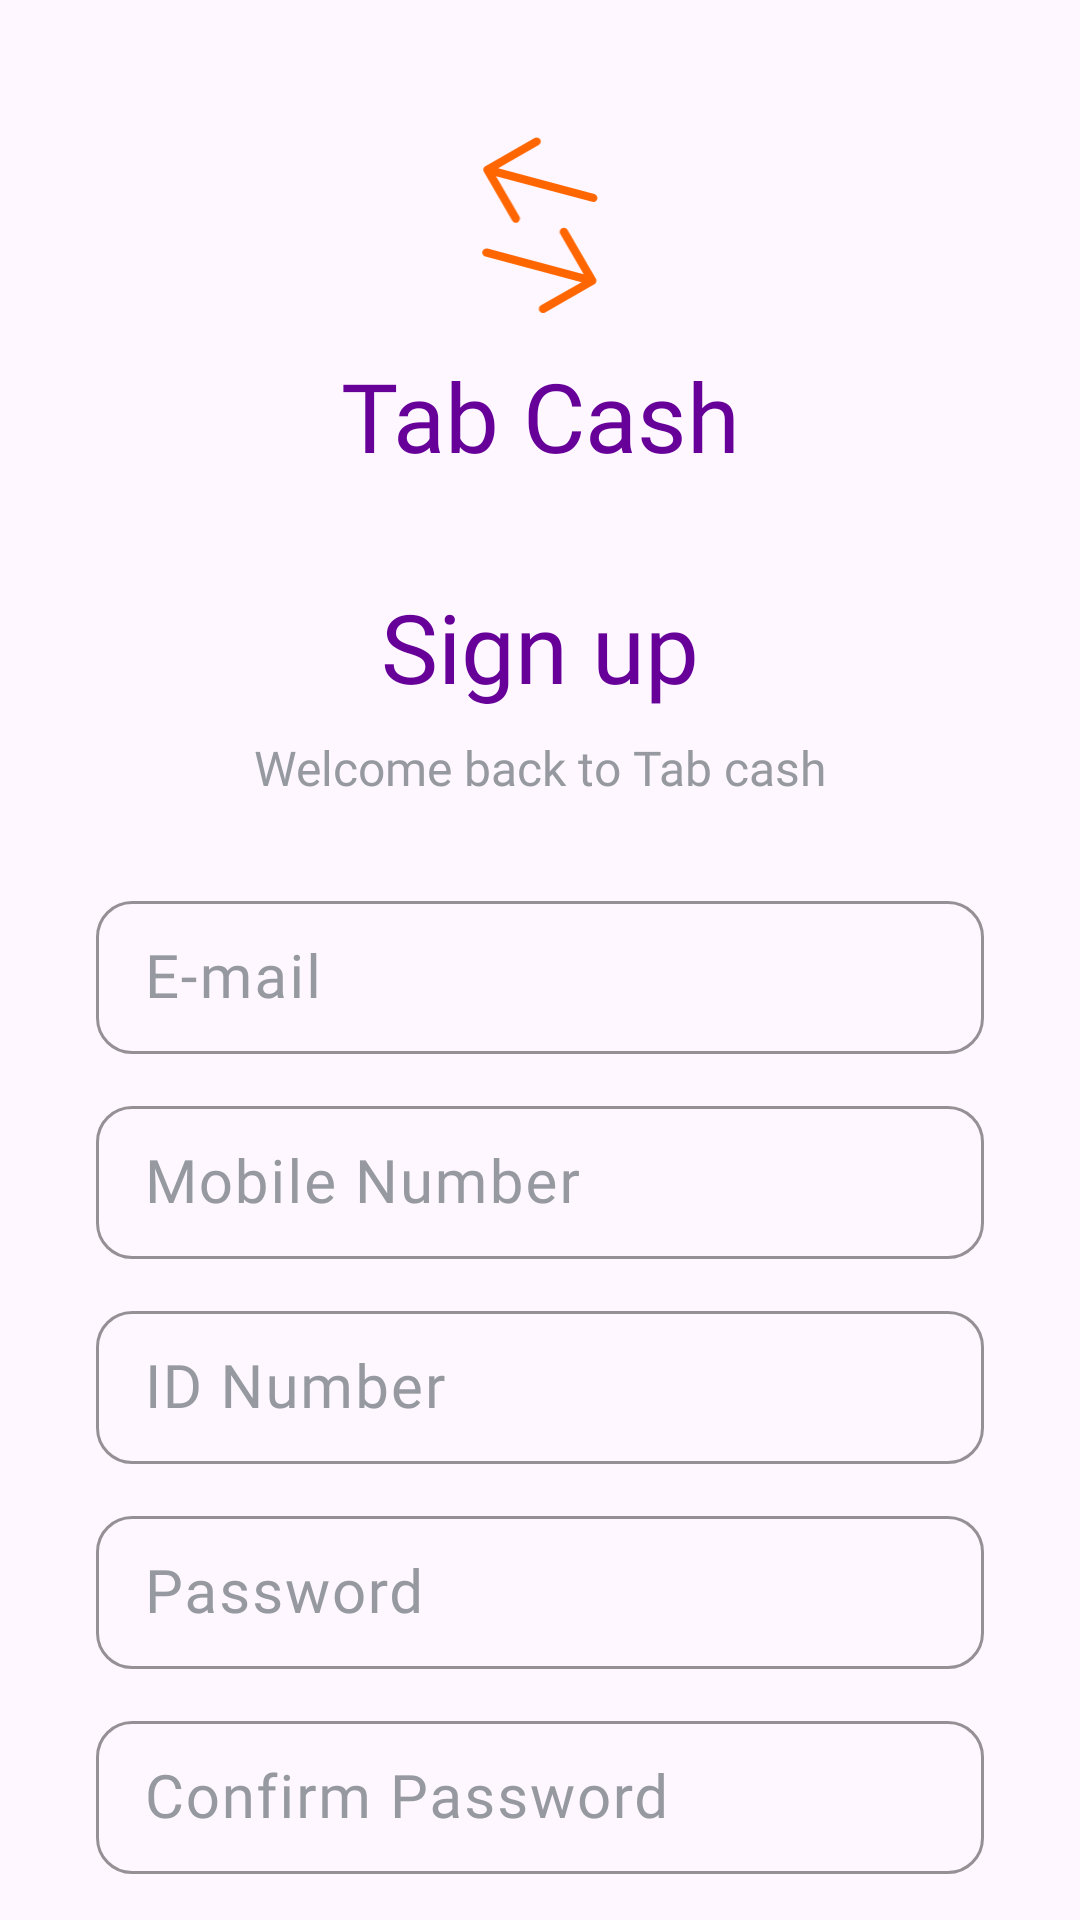

Point at icon controls on the screen. Image size 1080×1920, points as [x,y].
left: [540,180]
right: [539,270]
